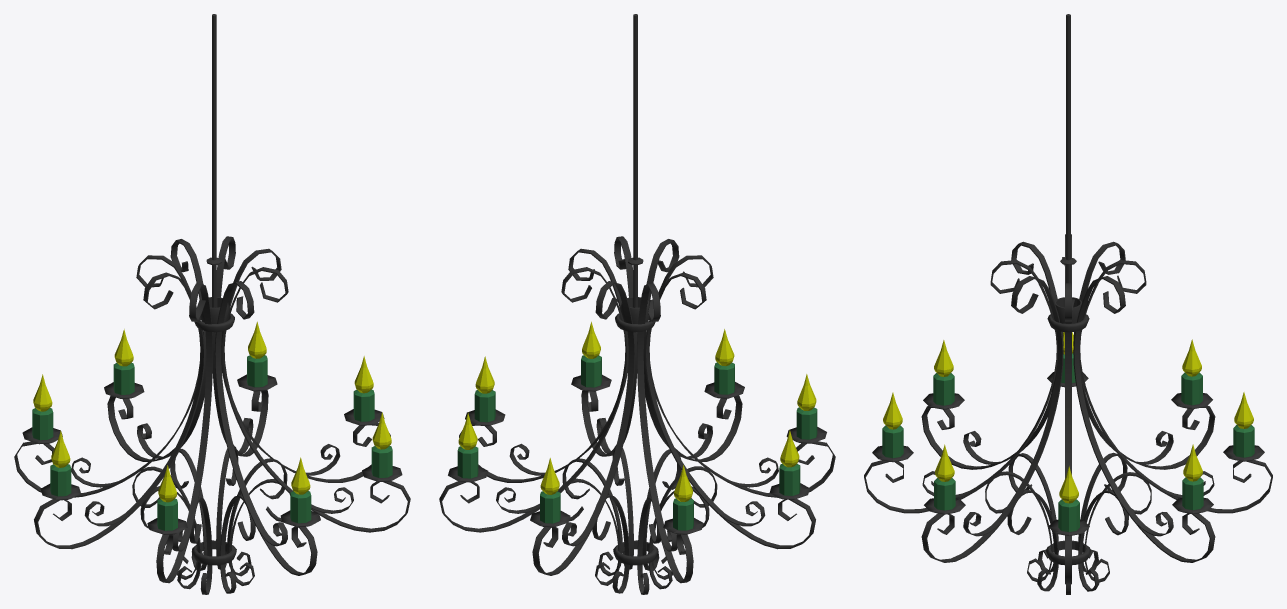
The model's file is Carndeleer.fbx.
3 views of the same model, side by side, from view 1: azimuth 30°, elevation 25°; view 2: azimuth 150°, elevation 25°; view 3: azimuth 270°, elevation 25° (orthographic).
Parts seen in each view (by area): view 1: Candle; view 2: Candle; view 3: Candle.
Part boxes in pixels (box(x1,y1,x2,y2)): Candle: box(14, 14, 410, 594); Candle: box(439, 14, 835, 594); Candle: box(864, 14, 1272, 594).
Bounding box in the file's own units: 16.12 × 24.67 × 16.12.
